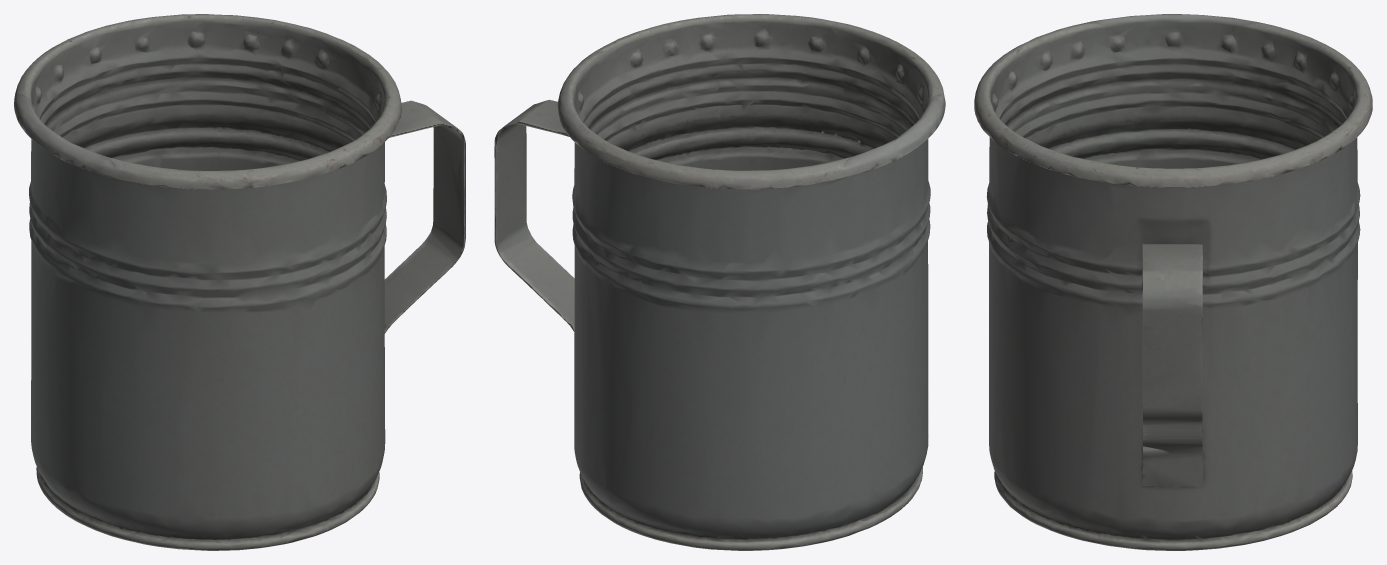
The model's file is mug.glb.
3 views of the same model, side by side, from view 1: azimuth 30°, elevation 25°; view 2: azimuth 150°, elevation 25°; view 3: azimuth 270°, elevation 25° (orthographic).
Bounding box in the file's own units: 1.59 × 1.43 × 1.33.
1 material, 1 textured.
